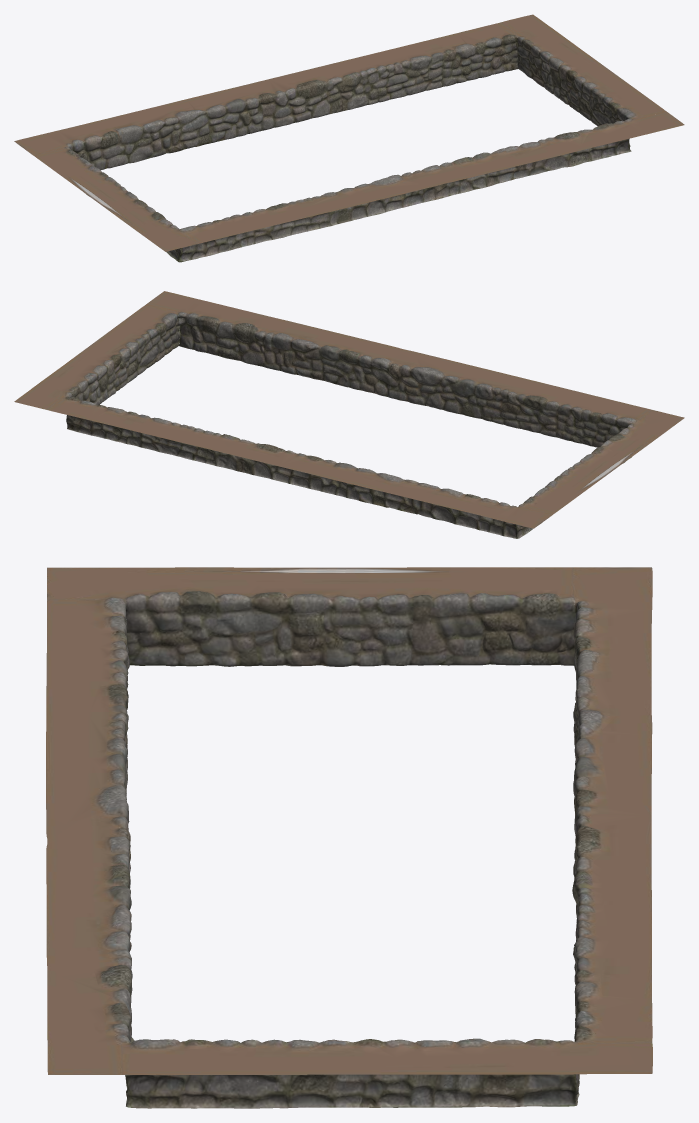
File: pond.glb
3 renders of one model, top to bottom at view 1: azimuth 30°, elevation 25°; view 2: azimuth 150°, elevation 25°; view 3: azimuth 270°, elevation 25°, orthographic. The views are drawn at different scales.
Visible parts, largest first — view 1: SM_24ET0003_LOW_SM_24ET0003_LOW_0; view 2: SM_24ET0003_LOW_SM_24ET0003_LOW_0; view 3: SM_24ET0003_LOW_SM_24ET0003_LOW_0.
Part boxes in pixels (<box>): SM_24ET0003_LOW_SM_24ET0003_LOW_0: <box>14,14,684,262</box>; SM_24ET0003_LOW_SM_24ET0003_LOW_0: <box>14,291,684,538</box>; SM_24ET0003_LOW_SM_24ET0003_LOW_0: <box>46,567,652,1108</box>.
Size of the model in its own units: 15.99 by 1.04 by 8.07.
Materials: 1 (1 with a texture image).
